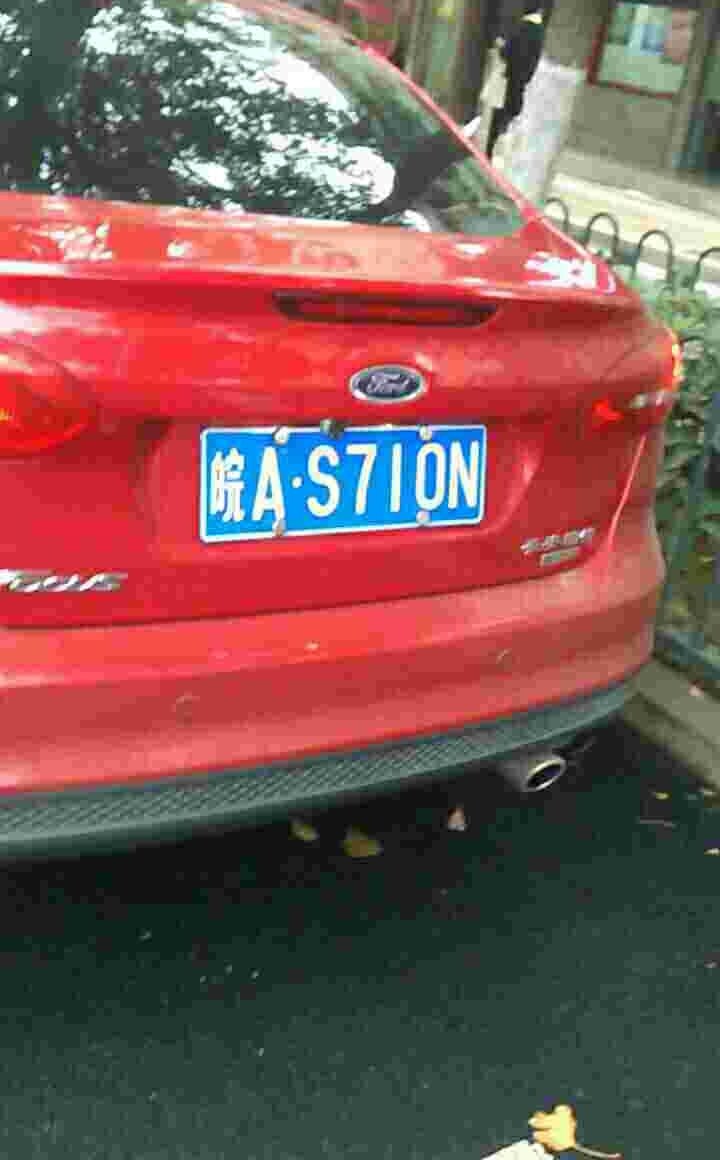car: (200, 428, 497, 532)
